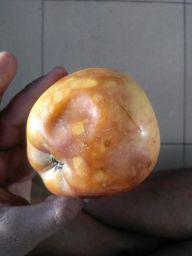Apple Rotten: (24, 67, 163, 198)
